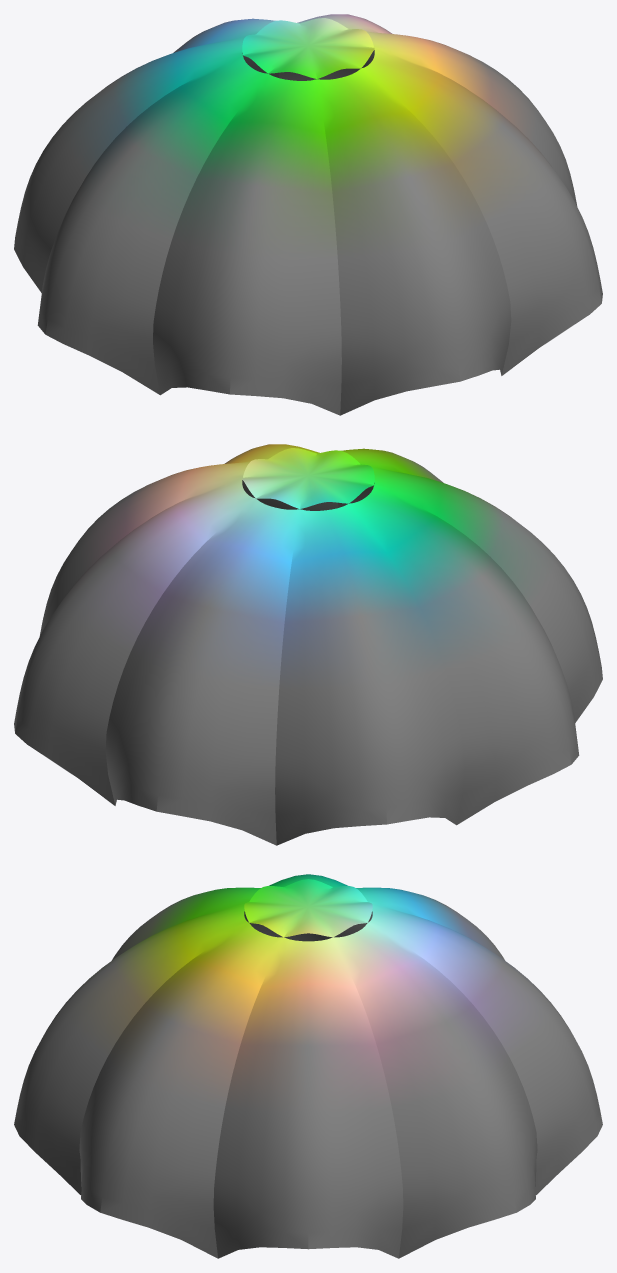
Rendered from airdrop.obj.
The picture shows the model from 3 angles, top to bottom: view 1: azimuth 30°, elevation 25°; view 2: azimuth 150°, elevation 25°; view 3: azimuth 270°, elevation 25°; orthographic projection. The views are drawn at different scales.
Parts seen in each view (by area): view 1: Parachute_Sphere; view 2: Parachute_Sphere; view 3: Parachute_Sphere.
Boxes of the visible parts, box(x1,y1,x2,y2) form: Parachute_Sphere: box(14, 14, 602, 415); Parachute_Sphere: box(14, 444, 602, 845); Parachute_Sphere: box(14, 874, 602, 1258).
Size of the model in its own units: 2.32 by 1.13 by 2.32.
